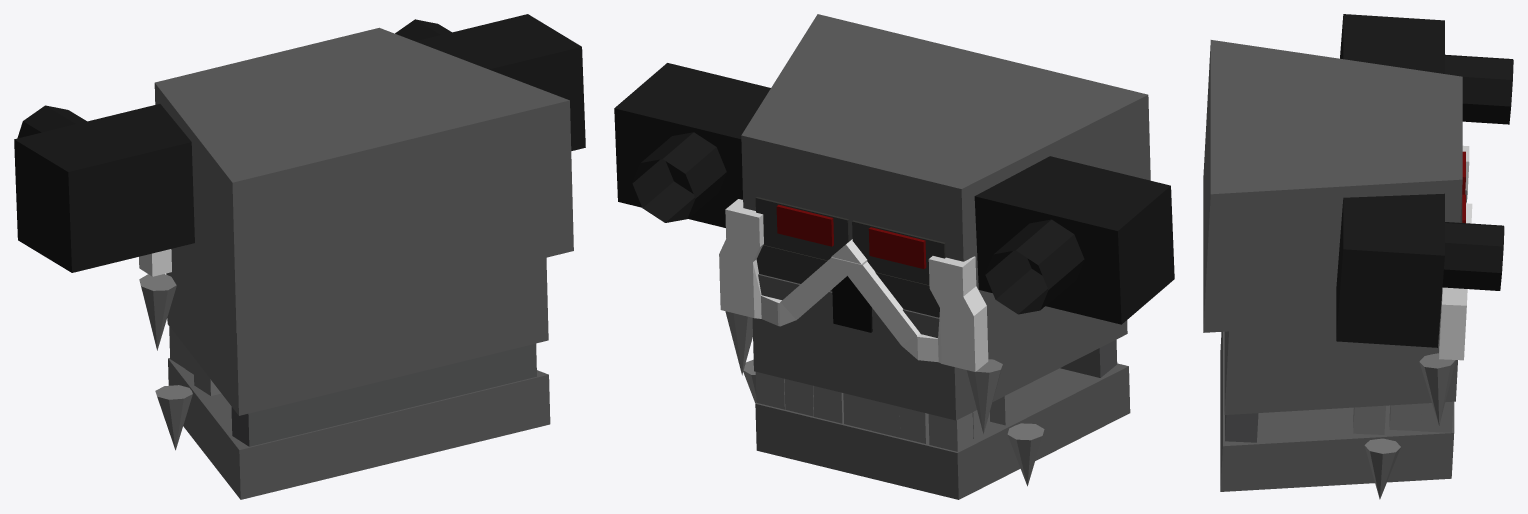
The model's file is OtelloShip.fbx.
The picture shows the model from 3 angles, left to right: view 1: azimuth 30°, elevation 25°; view 2: azimuth 150°, elevation 25°; view 3: azimuth 270°, elevation 25°; orthographic projection. The views are drawn at different scales.
Parts seen in each view (by area): view 1: Otello; view 2: Otello; view 3: Otello.
Boxes of the visible parts, x1,y1,x2,y2 form: Otello: (14,14,585,499); Otello: (614,14,1174,499); Otello: (1203,14,1513,499).
Size of the model in its own units: 1093 by 695 by 609.
